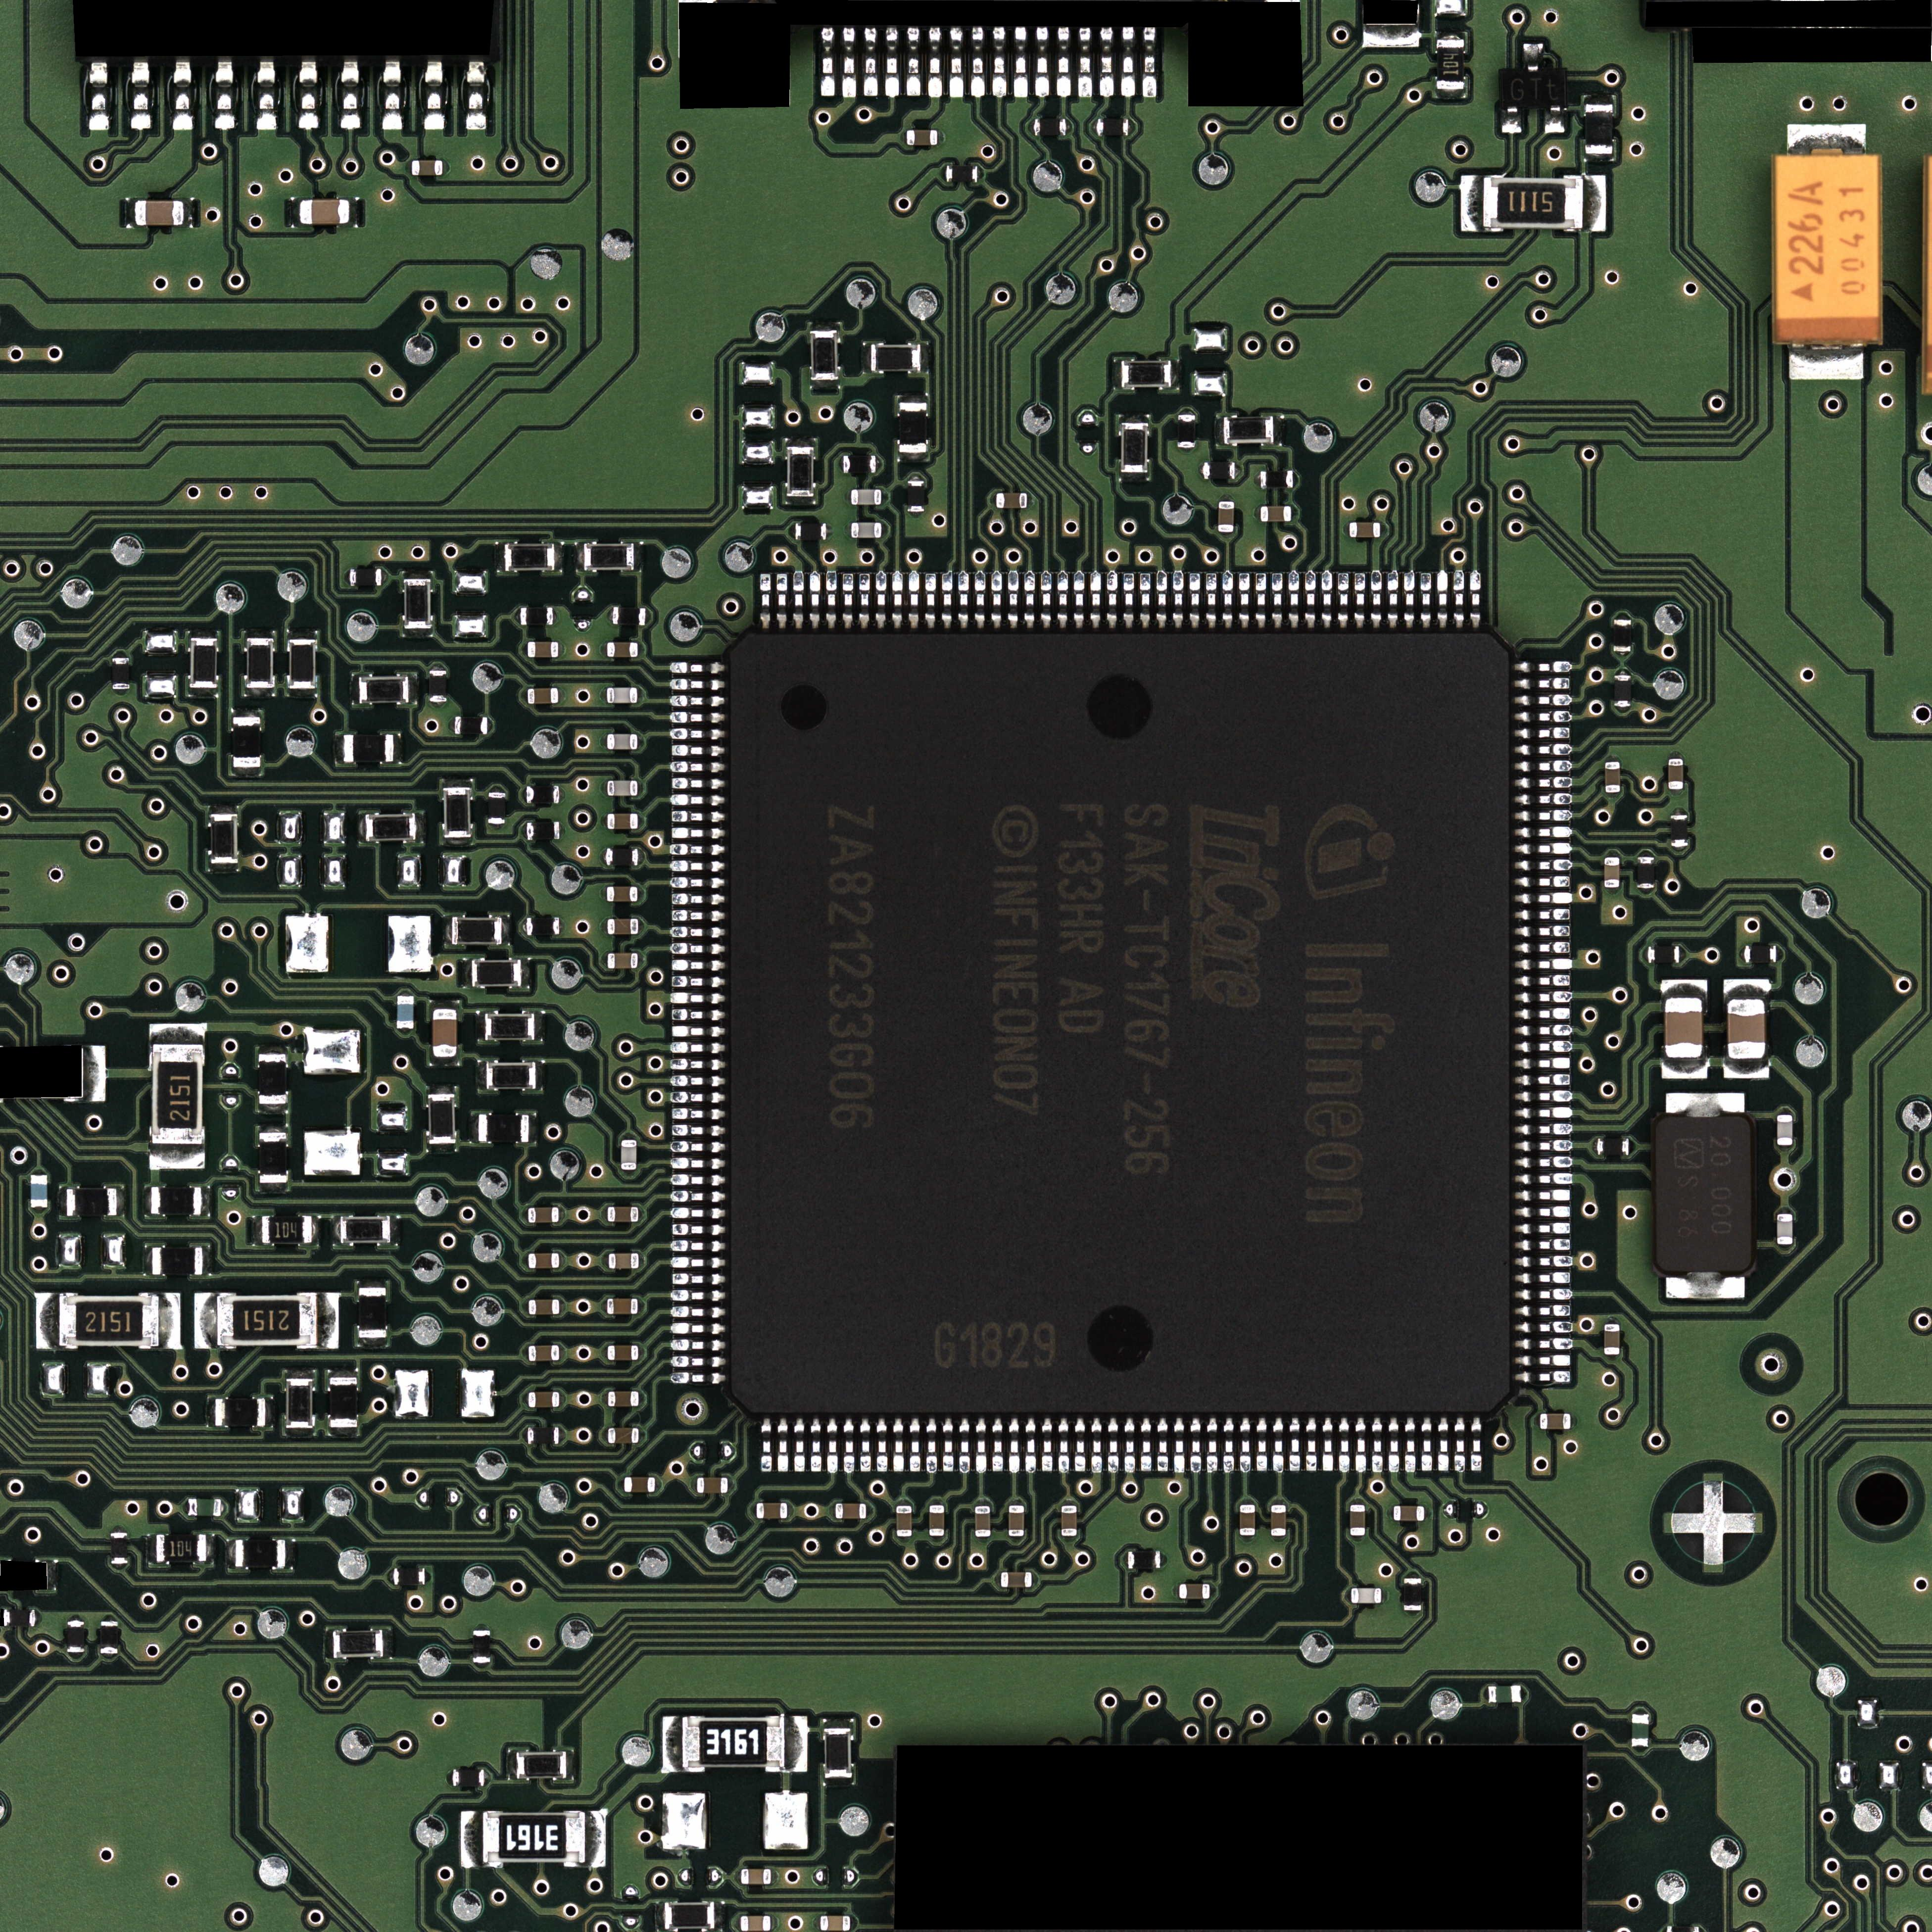Package: (729, 630, 1513, 1415), (1775, 156, 1881, 343), (1652, 1115, 1753, 1274), (483, 1812, 586, 1863), (683, 1716, 784, 1767), (218, 1295, 317, 1346), (60, 1295, 159, 1346), (152, 1046, 203, 1143), (1484, 177, 1582, 228), (1500, 71, 1566, 106), (1727, 1000, 1766, 1058), (1665, 998, 1702, 1058), (343, 734, 395, 763), (232, 717, 260, 768), (478, 1115, 529, 1143), (150, 1187, 202, 1215), (156, 1534, 207, 1562), (329, 1376, 357, 1428), (899, 403, 927, 453), (258, 1054, 287, 1104), (258, 1132, 287, 1182), (235, 1539, 285, 1568), (357, 1288, 386, 1338), (1585, 104, 1614, 154), (1437, 39, 1465, 88), (152, 1247, 203, 1274), (451, 918, 501, 945), (870, 345, 920, 372), (134, 200, 184, 226), (216, 1399, 265, 1426), (262, 1217, 311, 1244), (485, 1014, 534, 1040), (67, 1189, 117, 1215), (428, 1093, 455, 1143), (517, 1752, 566, 1778), (665, 1902, 715, 1928), (1122, 361, 1171, 387), (366, 816, 416, 840), (359, 678, 409, 702), (405, 579, 430, 628), (444, 787, 469, 837), (471, 961, 520, 985), (290, 639, 315, 688), (299, 200, 349, 225), (584, 545, 633, 570), (191, 639, 216, 688), (787, 448, 812, 497), (504, 545, 554, 570), (248, 639, 272, 688), (211, 814, 235, 863), (812, 331, 837, 380), (333, 1631, 382, 1656), (341, 1217, 391, 1242), (826, 1729, 851, 1778), (287, 1378, 311, 1428), (1122, 423, 1146, 472), (1224, 418, 1274, 442), (432, 1008, 456, 1056), (487, 1063, 534, 1088), (525, 916, 559, 936), (99, 1621, 119, 1654), (844, 455, 876, 474), (527, 821, 559, 840), (1403, 1578, 1422, 1610), (605, 847, 639, 865), (520, 607, 554, 625), (612, 607, 646, 625), (111, 656, 129, 690), (188, 1499, 221, 1516), (472, 1629, 490, 1663), (1260, 471, 1293, 488), (1670, 814, 1688, 847), (1033, 119, 1067, 136), (1488, 1686, 1522, 1704), (455, 717, 487, 734), (527, 786, 559, 803), (794, 522, 826, 540), (488, 793, 506, 824), (350, 568, 382, 586), (67, 1621, 85, 1652), (453, 1769, 485, 1787), (396, 996, 414, 1028), (30, 1175, 48, 1207), (1744, 945, 1776, 962), (1637, 856, 1654, 888), (1614, 676, 1631, 708), (1614, 619, 1631, 651), (947, 165, 978, 182), (1203, 462, 1235, 479), (1097, 119, 1129, 136), (1631, 1714, 1649, 1746), (1598, 1138, 1629, 1155), (1129, 1552, 1161, 1569), (1178, 414, 1194, 448), (607, 686, 637, 704), (908, 481, 925, 511), (529, 1391, 559, 1408), (1217, 502, 1235, 533), (906, 129, 938, 145), (430, 671, 446, 702), (527, 642, 559, 658), (607, 918, 639, 934), (527, 1207, 559, 1223), (607, 1207, 639, 1223), (607, 1345, 639, 1361), (527, 1428, 559, 1444), (111, 1532, 127, 1564), (393, 1569, 425, 1585), (1260, 506, 1292, 522), (1539, 1414, 1571, 1430), (1605, 1323, 1621, 1355), (1647, 947, 1679, 962), (975, 1506, 991, 1537), (1178, 1583, 1210, 1599), (607, 734, 637, 750), (607, 780, 637, 796), (607, 814, 637, 830), (607, 954, 637, 970), (851, 488, 881, 504), (527, 688, 557, 704), (607, 886, 637, 902), (851, 522, 881, 538), (607, 642, 637, 658), (412, 159, 442, 175), (757, 1502, 787, 1518), (609, 1391, 639, 1407), (625, 1477, 655, 1493), (609, 1428, 639, 1444), (529, 1253, 559, 1269), (609, 1253, 639, 1269), (529, 1345, 559, 1361), (621, 1139, 637, 1169), (607, 1299, 637, 1315), (529, 1299, 559, 1315), (697, 1477, 727, 1493), (741, 1868, 771, 1884), (1605, 763, 1621, 793), (996, 492, 1026, 508), (1350, 522, 1380, 538), (1352, 1587, 1382, 1603), (1001, 1571, 1031, 1587), (1776, 1115, 1792, 1145), (1776, 1214, 1792, 1244), (1008, 1506, 1024, 1536), (1270, 1506, 1286, 1536), (929, 1506, 945, 1536), (1240, 1506, 1256, 1536), (1394, 1506, 1424, 1522), (1350, 1506, 1366, 1536), (1062, 1506, 1077, 1536), (4, 1610, 34, 1626), (835, 1504, 867, 1518), (741, 1916, 770, 1932), (897, 1506, 911, 1536), (1605, 858, 1619, 888), (1668, 759, 1683, 789), (821, 1916, 849, 1930), (490, 1010, 527, 1014)
Solder: (1789, 345, 1863, 380), (1789, 124, 1867, 156), (1667, 1276, 1744, 1299), (1667, 1092, 1744, 1113), (297, 60, 318, 131), (214, 60, 235, 131), (88, 60, 110, 131), (149, 1145, 205, 1169), (465, 60, 485, 129), (425, 60, 444, 129), (382, 60, 402, 129), (341, 60, 361, 129), (257, 60, 276, 129), (173, 60, 193, 129), (131, 60, 150, 129), (35, 1293, 58, 1350), (1583, 175, 1606, 232), (83, 1046, 106, 1100), (159, 1293, 180, 1350), (195, 1293, 216, 1350), (786, 1716, 807, 1773), (1461, 175, 1483, 232), (1364, 27, 1419, 48), (586, 1810, 605, 1868), (1077, 27, 1093, 97), (948, 27, 964, 97), (840, 27, 856, 97), (462, 1812, 481, 1868), (662, 1716, 681, 1773), (1141, 27, 1157, 96), (1120, 27, 1136, 96), (1099, 27, 1115, 96), (1054, 27, 1070, 96), (1033, 27, 1049, 96), (1012, 27, 1028, 96), (970, 27, 985, 96), (927, 28, 943, 97), (906, 27, 922, 96), (862, 27, 878, 96), (318, 1293, 338, 1348), (1661, 1058, 1709, 1079), (149, 1024, 205, 1042), (993, 27, 1007, 97), (885, 27, 899, 96), (821, 27, 835, 96), (1723, 978, 1771, 998), (1723, 1060, 1769, 1079), (1514, 1254, 1573, 1269), (1661, 980, 1707, 998), (1514, 809, 1571, 823), (1514, 858, 1571, 872), (1514, 874, 1571, 888), (1514, 908, 1571, 922), (1514, 1106, 1571, 1120), (1514, 1304, 1571, 1318), (1514, 1320, 1571, 1334), (1514, 1353, 1571, 1368), (1514, 1007, 1571, 1021), (671, 727, 725, 741), (671, 777, 725, 791), (671, 1173, 725, 1187), (671, 1288, 725, 1302), (671, 1123, 725, 1138), (671, 1272, 725, 1286), (671, 1256, 725, 1270), (671, 1223, 725, 1237), (671, 1207, 725, 1221), (671, 1322, 725, 1336), (1514, 924, 1569, 938), (892, 570, 904, 630), (793, 571, 805, 630), (809, 571, 821, 630), (941, 571, 954, 630), (1122, 571, 1134, 630), (1106, 571, 1118, 630), (1155, 571, 1168, 630), (1139, 571, 1152, 630), (1189, 571, 1201, 630), (1304, 571, 1316, 630), (1090, 571, 1102, 630), (1288, 571, 1300, 630), (1338, 571, 1350, 630), (1040, 571, 1053, 630), (1056, 571, 1069, 630), (1007, 571, 1019, 630), (957, 571, 970, 630), (975, 571, 987, 630), (1468, 570, 1481, 628), (1514, 1338, 1573, 1350), (671, 662, 727, 674), (759, 573, 771, 630), (908, 571, 920, 628), (924, 571, 936, 628), (842, 573, 855, 630), (858, 573, 870, 630), (874, 571, 886, 628), (1205, 573, 1217, 630), (1272, 571, 1284, 628), (1221, 571, 1233, 628), (1254, 573, 1267, 630), (1238, 573, 1251, 630), (1403, 571, 1415, 628), (1023, 571, 1035, 628), (1387, 571, 1399, 628), (991, 571, 1003, 628), (1353, 573, 1366, 630), (1514, 793, 1571, 805), (1514, 777, 1571, 789), (1514, 761, 1571, 773), (1514, 826, 1571, 839), (1514, 743, 1571, 755), (1514, 711, 1571, 724), (1514, 842, 1571, 855), (1514, 694, 1571, 706), (1514, 892, 1571, 904), (1514, 678, 1571, 690), (1514, 941, 1571, 954), (1437, 571, 1449, 628), (1453, 571, 1465, 628), (1514, 660, 1571, 672), (1514, 1173, 1571, 1185), (1514, 1189, 1571, 1201), (1514, 1155, 1571, 1168), (1514, 1207, 1571, 1219), (1514, 1139, 1571, 1152), (1514, 1123, 1571, 1136), (1514, 1238, 1571, 1251), (1514, 1223, 1571, 1235), (1514, 1288, 1571, 1300), (1514, 1272, 1571, 1284), (1514, 1090, 1571, 1102), (1514, 1074, 1571, 1086), (1514, 991, 1571, 1003), (1514, 975, 1571, 987), (1514, 959, 1571, 971), (1514, 1040, 1571, 1053), (671, 678, 725, 690), (671, 794, 725, 807), (671, 761, 725, 773), (671, 695, 725, 708), (671, 711, 725, 724), (671, 745, 725, 757), (671, 909, 725, 922), (671, 810, 725, 823), (671, 893, 725, 906), (671, 876, 725, 888), (671, 860, 725, 872), (671, 844, 725, 856), (671, 826, 725, 839), (671, 925, 725, 938), (671, 943, 725, 955), (671, 1042, 725, 1054), (671, 1058, 725, 1070), (671, 1157, 725, 1169), (671, 1076, 725, 1088), (671, 1108, 725, 1120), (671, 1092, 725, 1104), (671, 1141, 725, 1154), (671, 1191, 725, 1203), (671, 1306, 725, 1318), (671, 1240, 725, 1253), (671, 993, 725, 1005), (671, 1355, 725, 1368), (671, 1339, 725, 1352), (671, 1026, 725, 1039), (1514, 727, 1569, 740), (1516, 1371, 1571, 1384), (1516, 1024, 1571, 1037), (1256, 1417, 1269, 1472), (876, 1419, 888, 1474), (1074, 1417, 1086, 1472), (925, 1419, 938, 1474), (761, 1417, 773, 1472), (672, 959, 725, 971), (671, 1008, 724, 1021), (672, 975, 725, 987), (1470, 1417, 1483, 1470), (1173, 1419, 1185, 1472), (959, 1419, 971, 1472), (826, 571, 837, 630), (1173, 571, 1184, 630), (1322, 571, 1332, 630), (1074, 571, 1085, 630), (777, 573, 787, 630), (1421, 571, 1431, 628), (1371, 571, 1382, 628), (1514, 1058, 1571, 1069), (1355, 1417, 1366, 1472), (1405, 1417, 1415, 1472), (1389, 1417, 1399, 1472), (1373, 1417, 1384, 1472), (1240, 1417, 1251, 1472), (1339, 1417, 1350, 1472), (1323, 1417, 1334, 1472), (1306, 1417, 1316, 1472), (1290, 1417, 1300, 1472), (1224, 1417, 1235, 1472), (1274, 1417, 1284, 1472), (1058, 1417, 1069, 1472), (1042, 1417, 1053, 1472), (1026, 1417, 1037, 1472), (860, 1419, 870, 1474), (844, 1419, 855, 1474), (943, 1419, 954, 1474), (909, 1419, 920, 1474), (893, 1419, 904, 1474), (828, 1419, 839, 1474), (810, 1417, 821, 1472), (794, 1417, 805, 1472), (778, 1417, 789, 1472), (672, 1373, 725, 1384), (1545, 106, 1566, 133), (1454, 1417, 1465, 1470), (1438, 1417, 1449, 1470), (1422, 1417, 1433, 1470), (1125, 1419, 1136, 1472), (1108, 1419, 1118, 1472), (1207, 1419, 1217, 1472), (1191, 1419, 1201, 1472), (1157, 1419, 1168, 1472), (1092, 1419, 1102, 1472), (1141, 1419, 1152, 1472), (977, 1419, 987, 1472), (1008, 1419, 1019, 1472), (993, 1419, 1003, 1472), (1523, 42, 1543, 71), (1502, 108, 1522, 133), (48, 1560, 60, 1591), (809, 320, 840, 331), (897, 393, 929, 403), (784, 437, 816, 448), (476, 1060, 487, 1092), (823, 1718, 855, 1729), (1118, 472, 1150, 483), (311, 1215, 322, 1246), (506, 1750, 517, 1780), (715, 1902, 725, 1932), (331, 1215, 341, 1244), (469, 1111, 478, 1145), (1433, 90, 1467, 99), (442, 915, 451, 947), (287, 630, 318, 639), (334, 732, 343, 764), (244, 688, 276, 697), (244, 630, 276, 639), (188, 630, 219, 639), (426, 1085, 458, 1093), (428, 1058, 460, 1067), (117, 1185, 126, 1217), (356, 1338, 387, 1346), (257, 1184, 288, 1192), (147, 1534, 156, 1566), (897, 453, 929, 462), (534, 1010, 543, 1042), (522, 957, 531, 989), (823, 1778, 855, 1787), (1118, 414, 1150, 423), (1435, 30, 1467, 39), (184, 198, 193, 228), (188, 688, 218, 697), (209, 863, 239, 872), (442, 778, 472, 787), (232, 768, 262, 777), (403, 628, 433, 637), (287, 688, 317, 697), (232, 708, 262, 717), (430, 1000, 460, 1008), (476, 1012, 485, 1042), (285, 1369, 315, 1378), (462, 959, 471, 989), (253, 1215, 262, 1246), (329, 1428, 359, 1437), (285, 1428, 315, 1437), (426, 1145, 456, 1154), (202, 1187, 211, 1217), (357, 1279, 387, 1288), (287, 1539, 295, 1569), (207, 1534, 216, 1564), (226, 1539, 235, 1569), (384, 1628, 393, 1658), (920, 343, 929, 373), (810, 380, 840, 389), (862, 343, 870, 373), (786, 497, 816, 506), (556, 541, 564, 571), (575, 541, 584, 571), (566, 1750, 575, 1780), (1171, 359, 1180, 389), (1274, 416, 1283, 446), (1113, 359, 1122, 389), (1215, 416, 1224, 446), (1583, 154, 1614, 163), (209, 805, 237, 814), (357, 814, 366, 842), (416, 814, 425, 842), (633, 541, 642, 570), (502, 916, 511, 945), (655, 1902, 663, 1930), (58, 1185, 65, 1219), (352, 674, 359, 706), (395, 732, 402, 764), (207, 1396, 214, 1428), (257, 1046, 288, 1053), (143, 1185, 150, 1217), (257, 1106, 288, 1113), (265, 1396, 272, 1428), (326, 1628, 333, 1660), (497, 541, 504, 573), (529, 1113, 536, 1145), (127, 198, 134, 228), (403, 571, 433, 579), (409, 674, 416, 704), (258, 1125, 288, 1132), (143, 1246, 150, 1276), (391, 1215, 398, 1246), (327, 1369, 357, 1376), (203, 1246, 211, 1276), (536, 1062, 543, 1092), (1583, 96, 1614, 103), (292, 198, 299, 226), (442, 839, 471, 846), (350, 198, 356, 228), (787, 522, 796, 540), (1776, 1244, 1794, 1253), (637, 780, 646, 796), (637, 886, 646, 902), (637, 952, 646, 968), (520, 1207, 529, 1223), (639, 847, 646, 867), (1177, 448, 1196, 455), (405, 159, 412, 177), (442, 159, 449, 177), (111, 651, 129, 658), (488, 786, 506, 793), (111, 688, 129, 695), (30, 1168, 48, 1175), (396, 1028, 414, 1035), (67, 1614, 85, 1621), (472, 1663, 490, 1670), (110, 1564, 127, 1571), (180, 1499, 188, 1516), (908, 474, 925, 481), (559, 823, 566, 840), (600, 952, 607, 970), (637, 686, 644, 704), (559, 786, 566, 803), (908, 511, 925, 518), (520, 823, 527, 840), (826, 522, 833, 540), (520, 918, 527, 936), (554, 609, 561, 626), (639, 1253, 646, 1270), (559, 1391, 566, 1408), (602, 1253, 609, 1270), (522, 1345, 529, 1362), (897, 1497, 911, 1506), (734, 1914, 741, 1932), (1178, 409, 1196, 416), (978, 165, 985, 182), (1235, 462, 1242, 479), (1129, 119, 1136, 136), (1403, 1571, 1421, 1578), (1403, 1610, 1421, 1617), (1679, 947, 1686, 964), (1776, 945, 1783, 962), (1614, 612, 1631, 619), (1637, 888, 1654, 895), (1614, 706, 1631, 713), (1614, 651, 1631, 658), (1629, 1138, 1637, 1155), (1776, 1146, 1794, 1154), (1631, 1707, 1649, 1714), (430, 663, 446, 671), (343, 570, 350, 586), (67, 1654, 83, 1661), (425, 1569, 432, 1585), (101, 1614, 117, 1621), (101, 1652, 117, 1660), (876, 456, 883, 472), (938, 129, 945, 145), (837, 456, 844, 472), (844, 488, 851, 504), (600, 686, 607, 702), (639, 918, 646, 934), (637, 734, 644, 750), (600, 886, 607, 902), (639, 814, 646, 830), (639, 642, 646, 658), (600, 814, 607, 830), (881, 522, 888, 538), (600, 918, 607, 934), (844, 522, 851, 538), (520, 787, 527, 803), (520, 688, 527, 704), (600, 642, 607, 658), (621, 1132, 637, 1139), (602, 1391, 609, 1407), (639, 1299, 646, 1315), (639, 1345, 646, 1361), (602, 1428, 609, 1444), (559, 1345, 566, 1361), (639, 1391, 646, 1407), (639, 1207, 646, 1223), (559, 1207, 566, 1223), (559, 1299, 566, 1315), (559, 1253, 566, 1269), (559, 1428, 566, 1444), (621, 1169, 637, 1177), (639, 1428, 646, 1444), (522, 1253, 529, 1269), (600, 1299, 607, 1315), (522, 1299, 529, 1315), (929, 1536, 945, 1543), (750, 1502, 757, 1518), (929, 1497, 945, 1504), (1198, 462, 1205, 478), (1380, 522, 1387, 538), (1292, 506, 1299, 522), (1350, 1497, 1366, 1504), (1008, 1499, 1024, 1506), (1008, 1536, 1024, 1543), (1161, 1552, 1168, 1568), (1062, 1499, 1077, 1506), (975, 1499, 991, 1506), (1424, 1506, 1431, 1522), (1173, 1583, 1180, 1599), (1122, 1552, 1129, 1568), (1605, 888, 1621, 895), (1668, 752, 1684, 759), (1605, 851, 1621, 858), (1605, 755, 1621, 763), (1776, 1108, 1792, 1115), (1776, 1207, 1792, 1214), (1522, 1686, 1529, 1702), (1633, 1746, 1649, 1753), (35, 1610, 42, 1626), (428, 702, 448, 708), (398, 989, 412, 996), (600, 734, 607, 748), (881, 490, 888, 504), (559, 688, 566, 702), (522, 1392, 529, 1407), (865, 1504, 872, 1518), (814, 1916, 821, 1930), (770, 1916, 777, 1930), (989, 494, 996, 508), (1026, 494, 1033, 508), (1031, 1573, 1039, 1587), (1345, 1589, 1352, 1603), (994, 1573, 1001, 1587), (1240, 1497, 1254, 1504), (1387, 1506, 1394, 1520), (449, 717, 455, 734), (382, 568, 387, 586), (488, 824, 506, 830), (30, 1208, 48, 1214), (221, 1499, 226, 1516), (939, 165, 945, 182), (646, 607, 651, 625), (607, 607, 612, 625), (600, 847, 605, 865), (485, 1769, 490, 1787), (1293, 471, 1299, 488), (1060, 1536, 1077, 1541), (1238, 1536, 1256, 1541), (1614, 669, 1631, 674), (1670, 809, 1688, 814), (1667, 789, 1684, 794), (1592, 1138, 1598, 1155), (1272, 1499, 1284, 1506), (488, 718, 494, 734), (111, 1527, 127, 1532), (474, 1624, 490, 1629), (387, 1569, 393, 1585), (901, 129, 906, 145), (602, 780, 607, 796), (559, 918, 564, 934), (559, 642, 564, 658), (515, 609, 520, 625), (602, 1207, 607, 1223), (522, 1428, 527, 1444), (602, 1345, 607, 1361), (897, 1537, 913, 1543), (787, 1502, 793, 1518), (771, 1868, 777, 1884), (727, 1477, 732, 1493), (1219, 495, 1235, 501), (1067, 119, 1072, 134), (1092, 119, 1097, 134), (1254, 472, 1260, 488), (1217, 533, 1233, 538), (1254, 506, 1260, 522), (1343, 522, 1348, 538), (1382, 1587, 1387, 1603), (1350, 1536, 1366, 1541), (975, 1537, 991, 1543), (1210, 1583, 1215, 1599), (1270, 1536, 1286, 1541), (1605, 793, 1621, 798), (1638, 851, 1654, 856), (1672, 847, 1688, 853), (1642, 947, 1647, 962), (1739, 947, 1744, 962), (1571, 1414, 1576, 1430), (1483, 1686, 1488, 1702), (522, 642, 527, 656), (617, 1477, 623, 1491), (655, 1477, 660, 1491), (692, 1477, 697, 1491), (830, 1504, 835, 1518), (851, 1916, 856, 1930), (1028, 120, 1033, 134), (1605, 1355, 1619, 1361), (736, 1870, 741, 1882), (1534, 1415, 1539, 1428), (448, 1769, 451, 1787), (1605, 1320, 1621, 1323)
